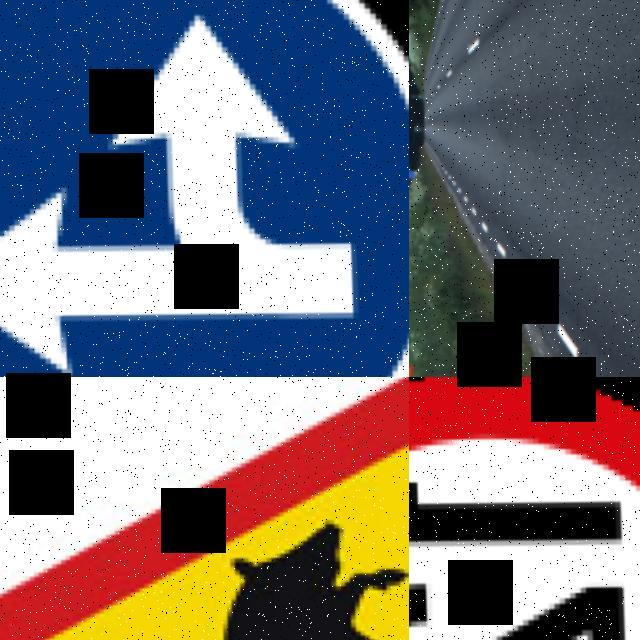136: (0, 377, 409, 640)
Turn left or straight ahead: (0, 0, 409, 377)
speed-limit-120: (409, 377, 640, 640)
